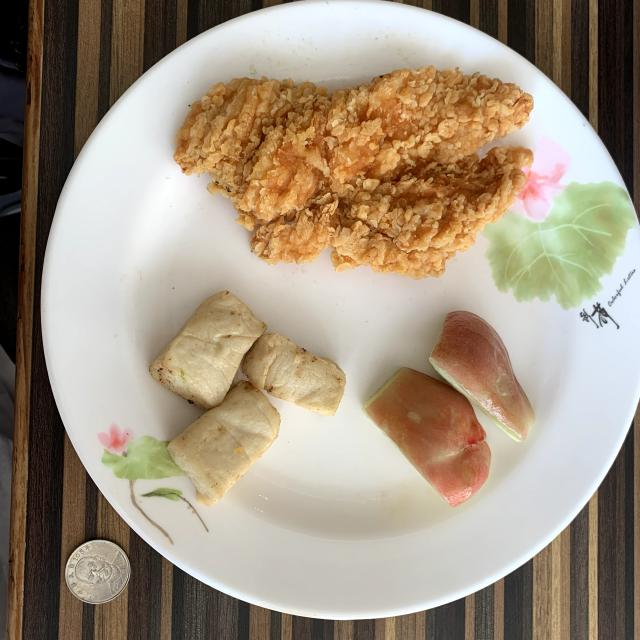coin: (65, 540, 130, 604)
creamy tofu -without sauce-: (150, 291, 345, 505)
fried chicken cutlet: (174, 66, 532, 279)
